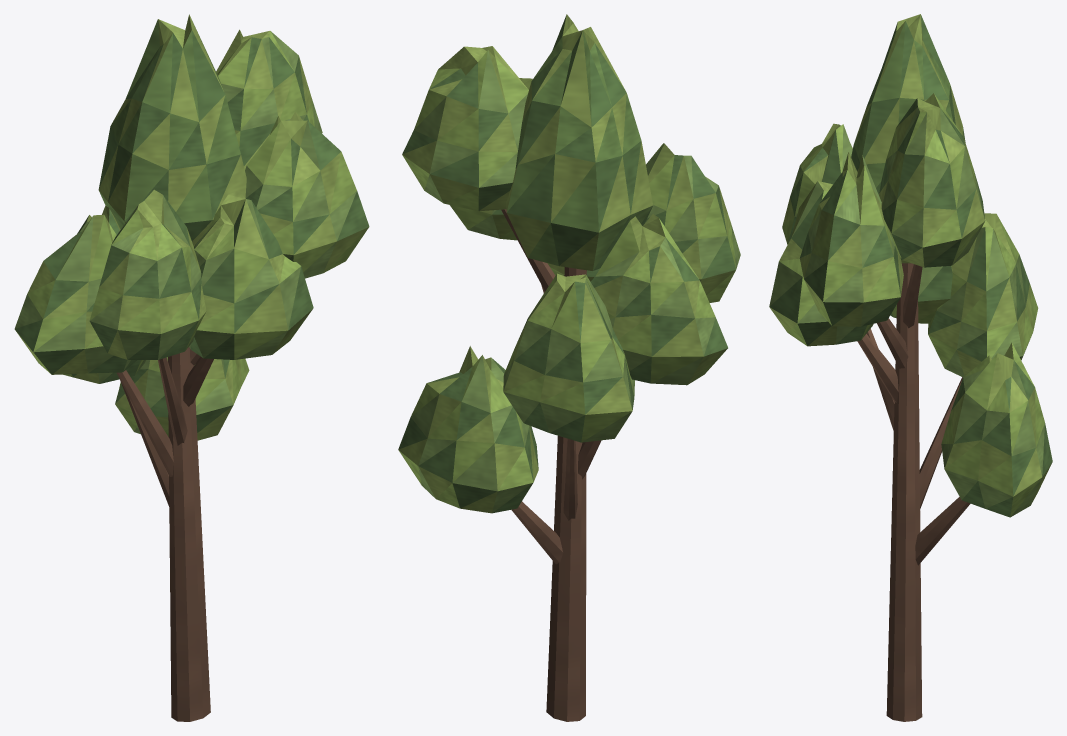
The model's file is tree_small_sapling_03.fbx.
3 renders of one model, left to right at view 1: azimuth 30°, elevation 25°; view 2: azimuth 150°, elevation 25°; view 3: azimuth 270°, elevation 25°, orthographic.
Parts seen in each view (by area): view 1: tree_small_sapling_03; view 2: tree_small_sapling_03; view 3: tree_small_sapling_03.
Boxes of the visible parts, x1,y1,x2,y2 form: tree_small_sapling_03: [14, 14, 369, 721]; tree_small_sapling_03: [398, 14, 740, 721]; tree_small_sapling_03: [769, 14, 1052, 721].
Bounding box in the file's own units: 175 × 390 × 144.
Materials: 1 (1 with a texture image).
